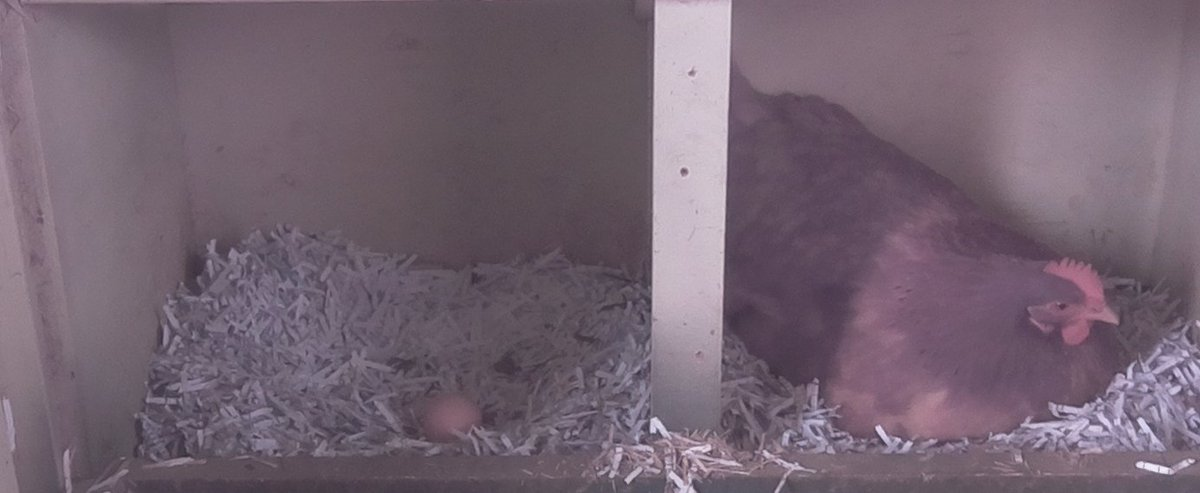egg: (413, 389, 488, 443)
hen: (728, 74, 1140, 450)
